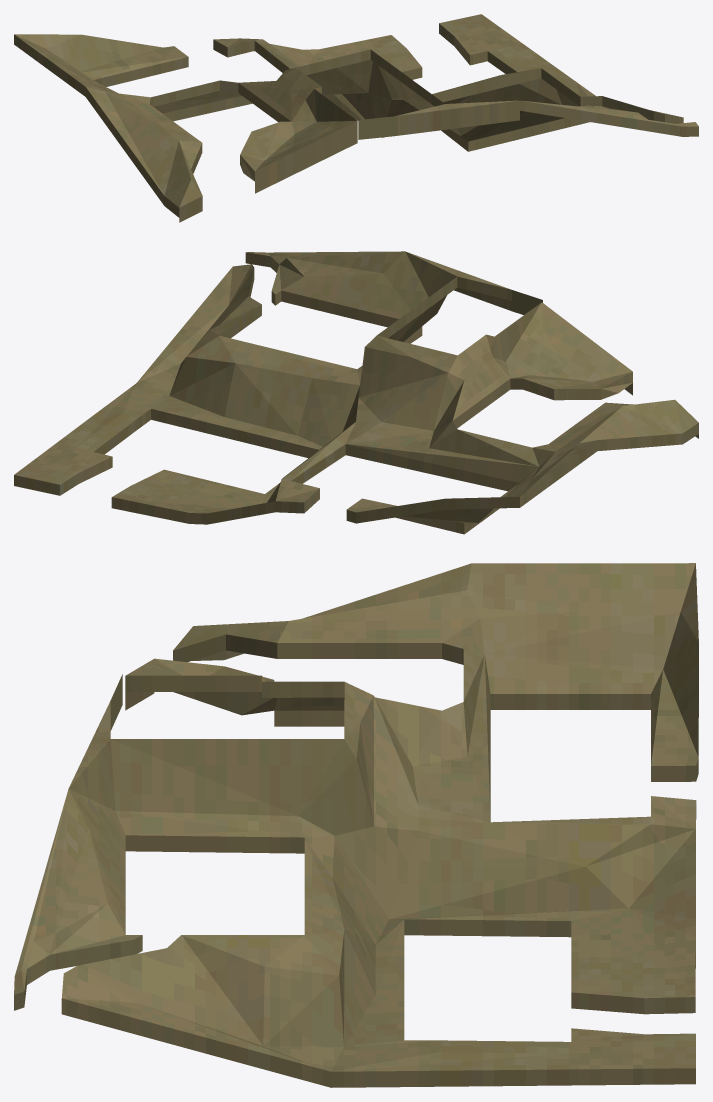
The model's file is lodboxtmp20.obj.
3 views of the same model, one above another, from view 1: azimuth 30°, elevation 25°; view 2: azimuth 150°, elevation 25°; view 3: azimuth 270°, elevation 25° (orthographic). The views are drawn at different scales.
Parts seen in each view (by area): view 1: LODboxtmp20; view 2: LODboxtmp20; view 3: LODboxtmp20.
Boxes of the visible parts, x1,y1,x2,y2 form: LODboxtmp20: (14, 14, 698, 222); LODboxtmp20: (14, 251, 698, 534); LODboxtmp20: (14, 563, 698, 1087).
Bounding box in the file's own units: 125 × 28.81 × 100.
Materials: 1 (1 with a texture image).
